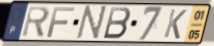7: (139, 5, 165, 42)
B: (101, 6, 132, 41)
F: (45, 7, 77, 39)
K: (162, 8, 189, 41)
N: (74, 5, 109, 42)
R: (20, 5, 51, 40)
